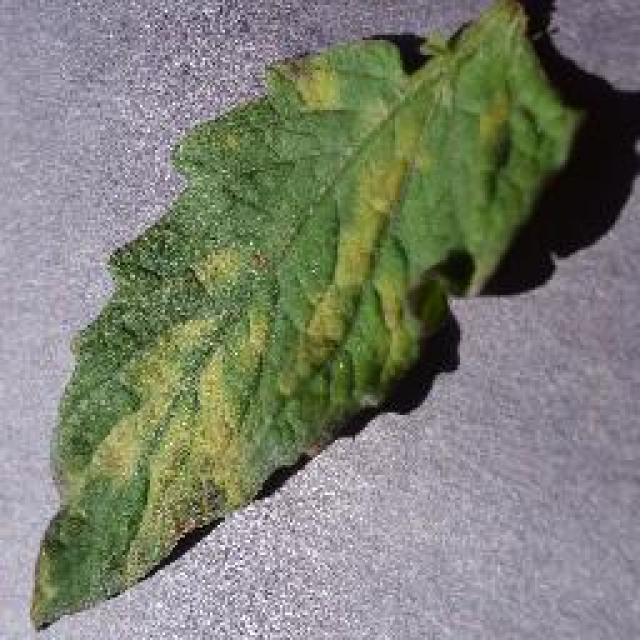leaf mold: (27, 0, 586, 633)
